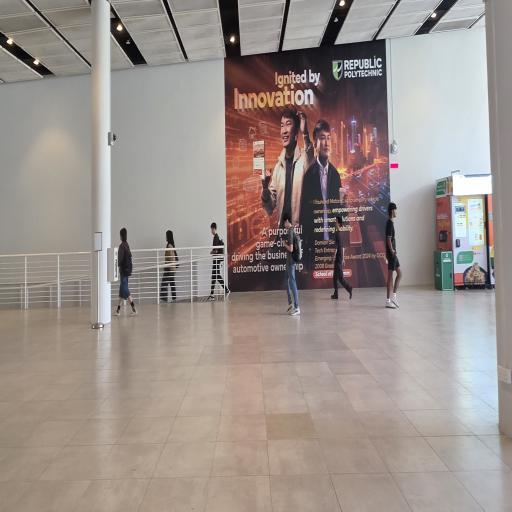person_left: (278, 210, 304, 322), (114, 223, 140, 321), (204, 218, 232, 304), (156, 219, 183, 306), (328, 212, 354, 302)
person_right: (382, 195, 406, 317)
